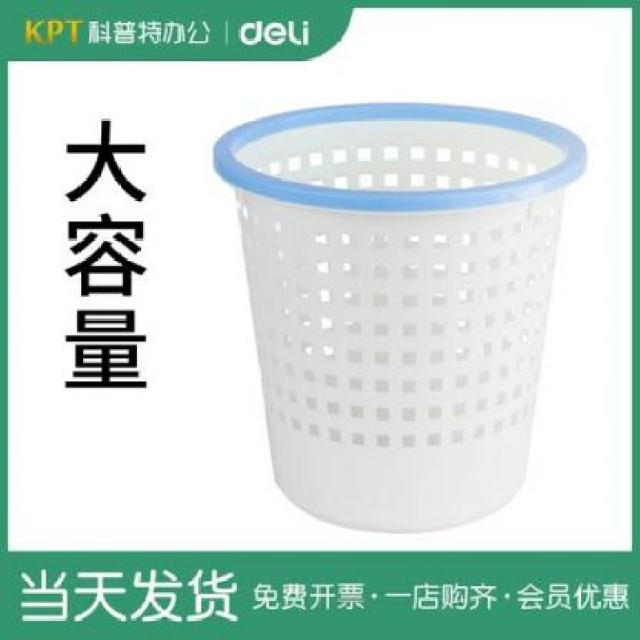dustbin: (206, 97, 592, 539)
